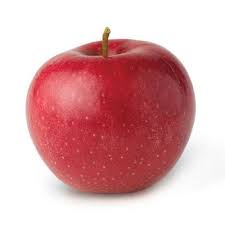apple: (24, 26, 199, 197)
